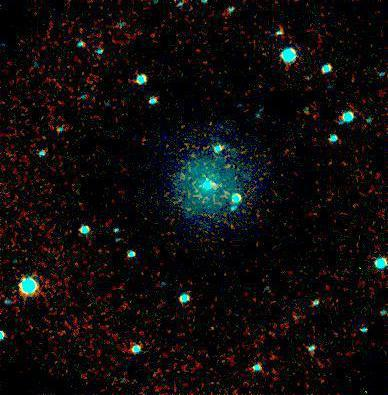star: (196, 315, 226, 345)
